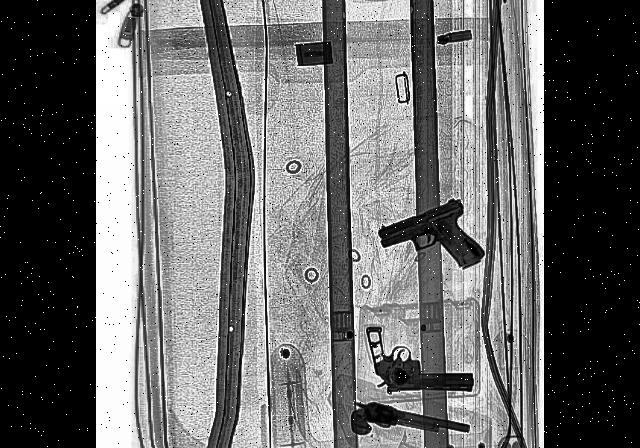Gun: (377, 188, 487, 296), (366, 322, 474, 394), (348, 400, 469, 436)
